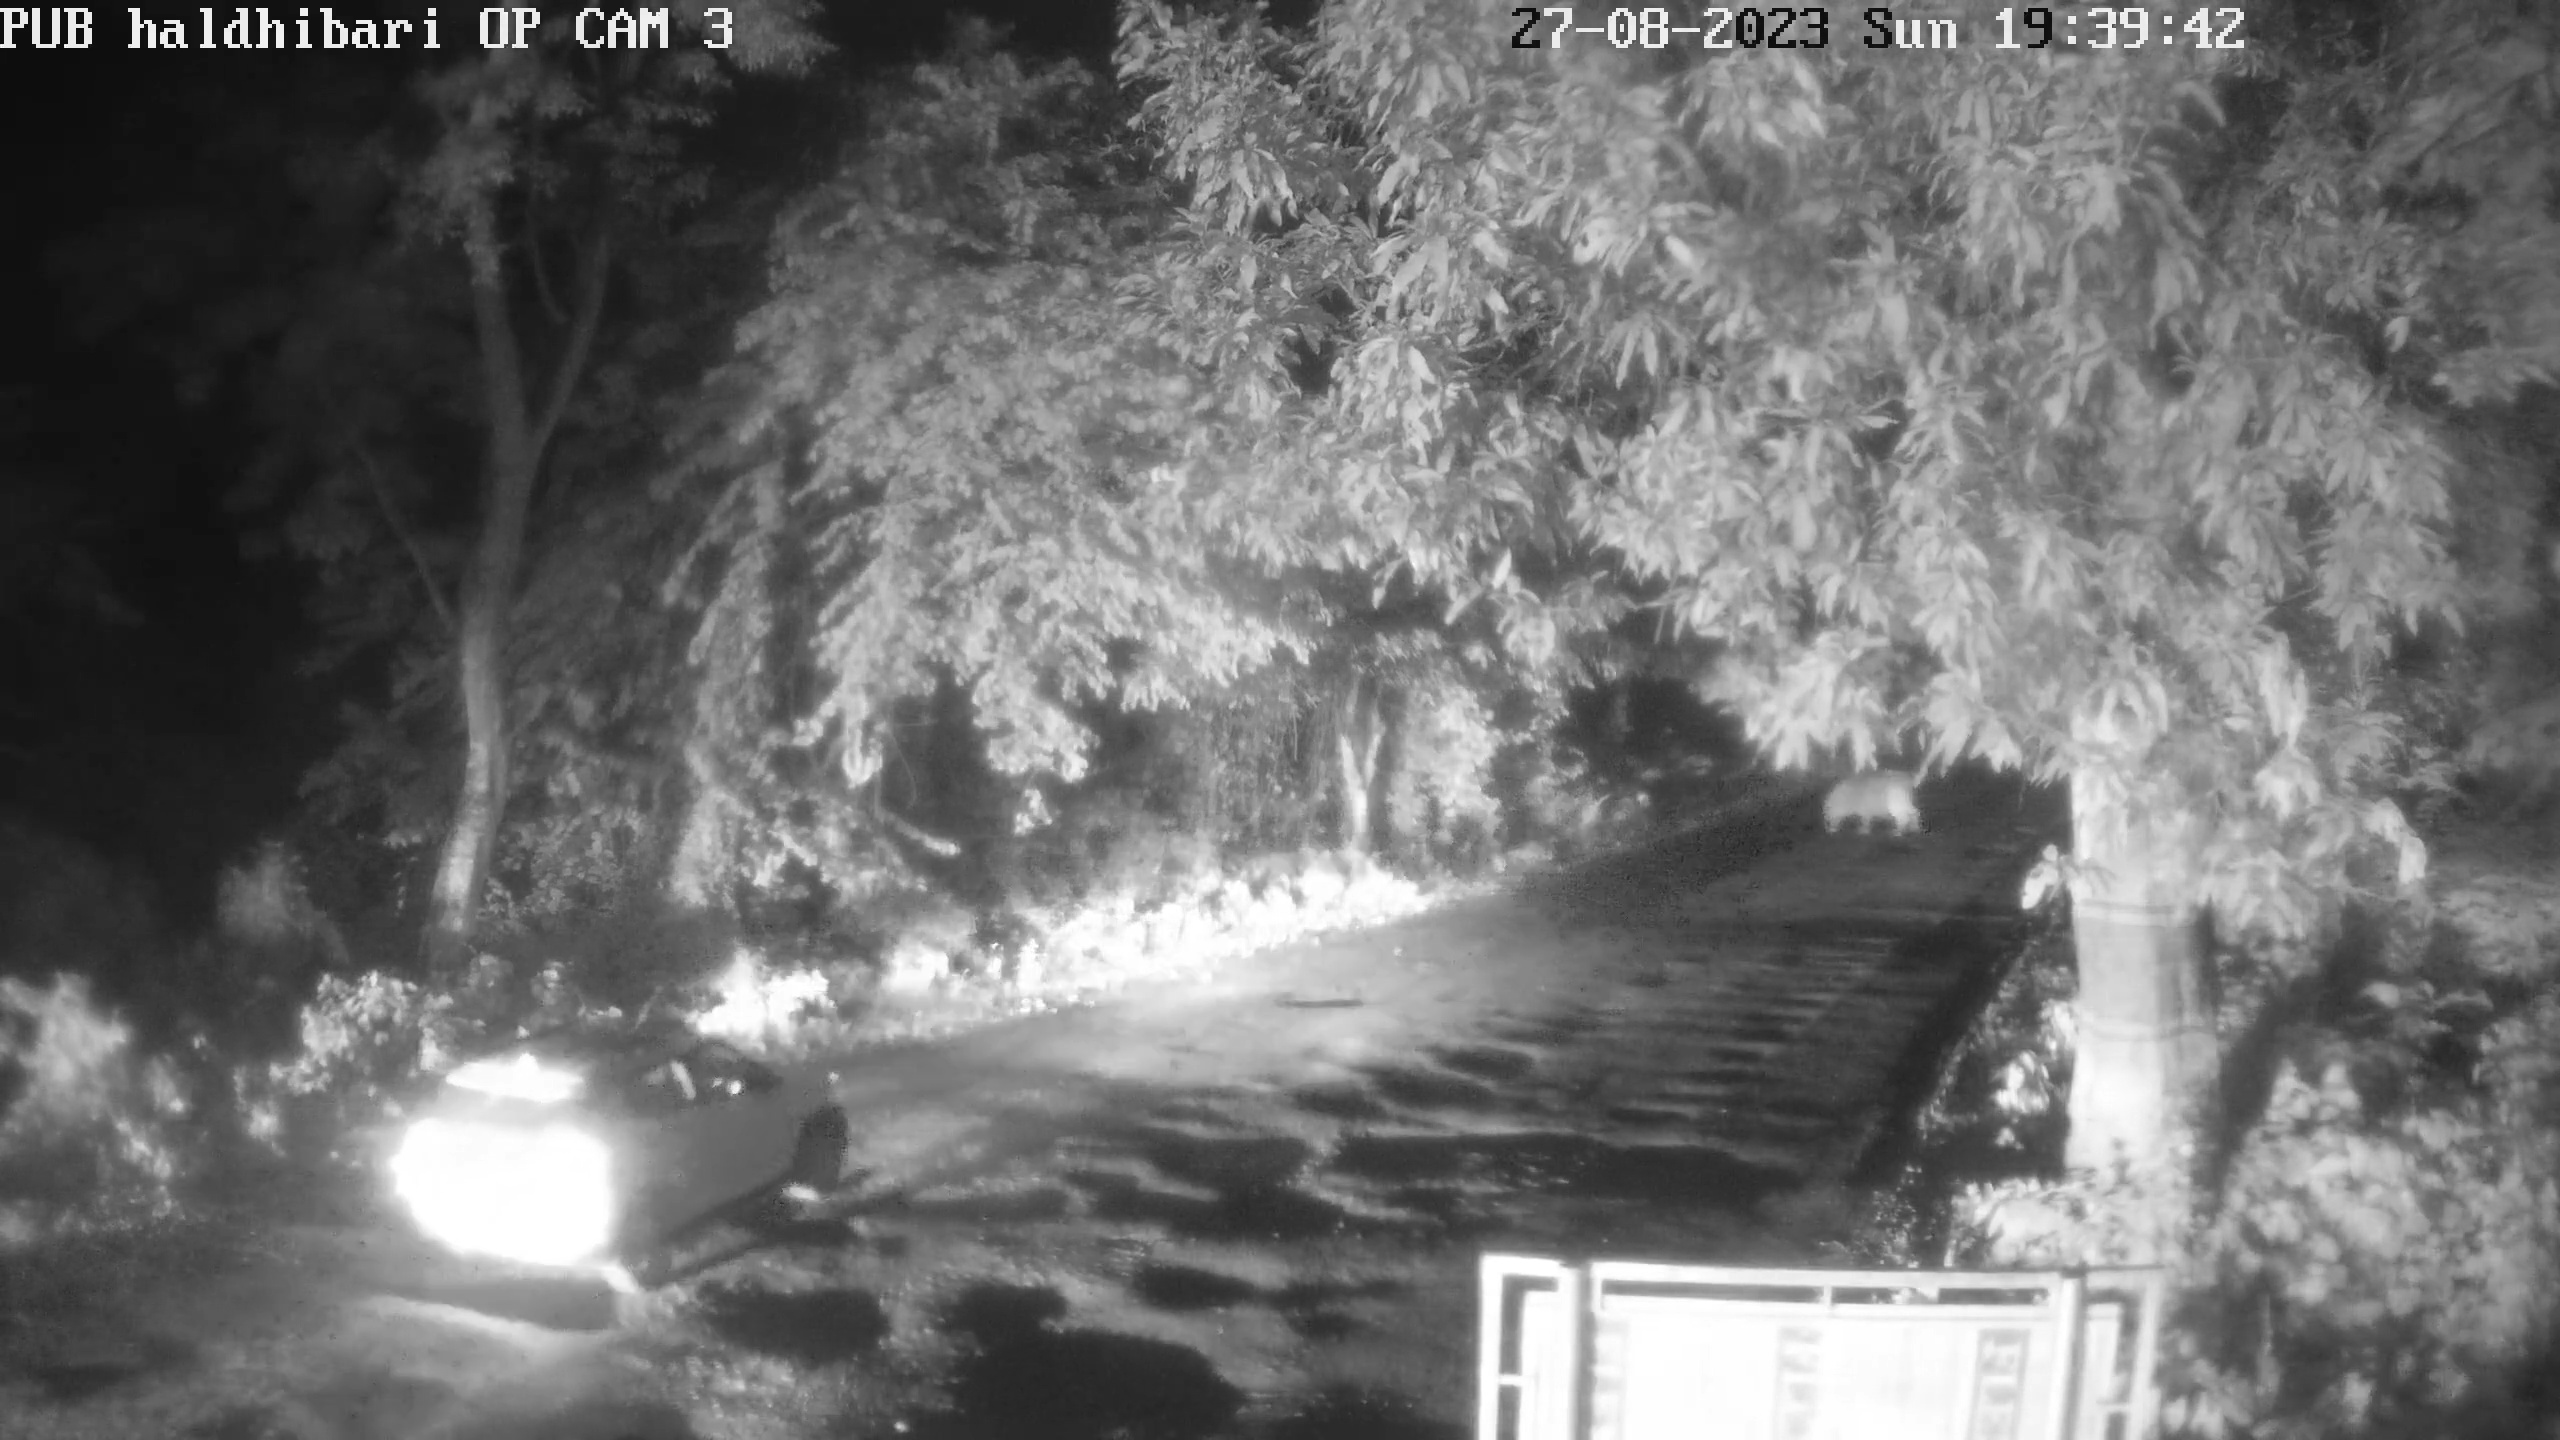rhinos: (1815, 770, 1927, 842)
